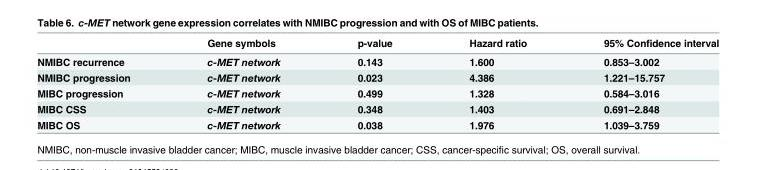table: (36, 36, 718, 131)
table column: (564, 36, 718, 131), (168, 36, 318, 131), (429, 36, 564, 131), (36, 36, 168, 131), (318, 36, 429, 131)
table column header: (36, 36, 718, 51)
table row: (36, 51, 718, 69), (36, 69, 718, 85), (36, 85, 718, 101), (36, 36, 718, 51), (36, 101, 718, 116), (36, 116, 718, 131)
